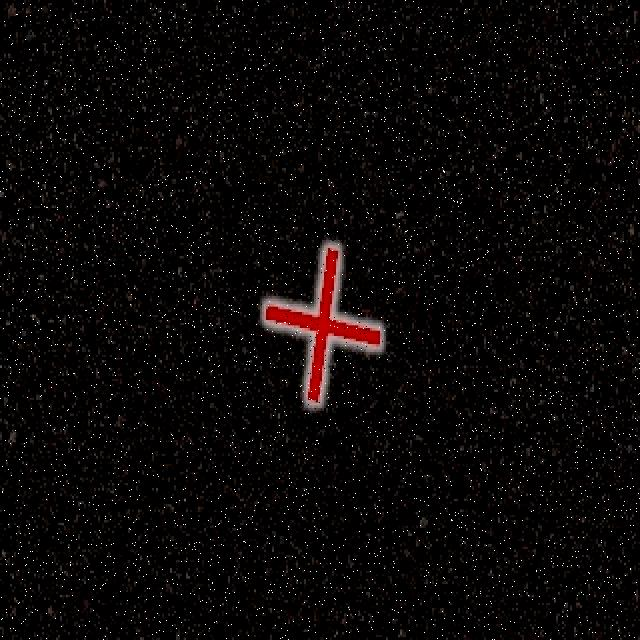x_marker: (265, 247, 379, 401)
